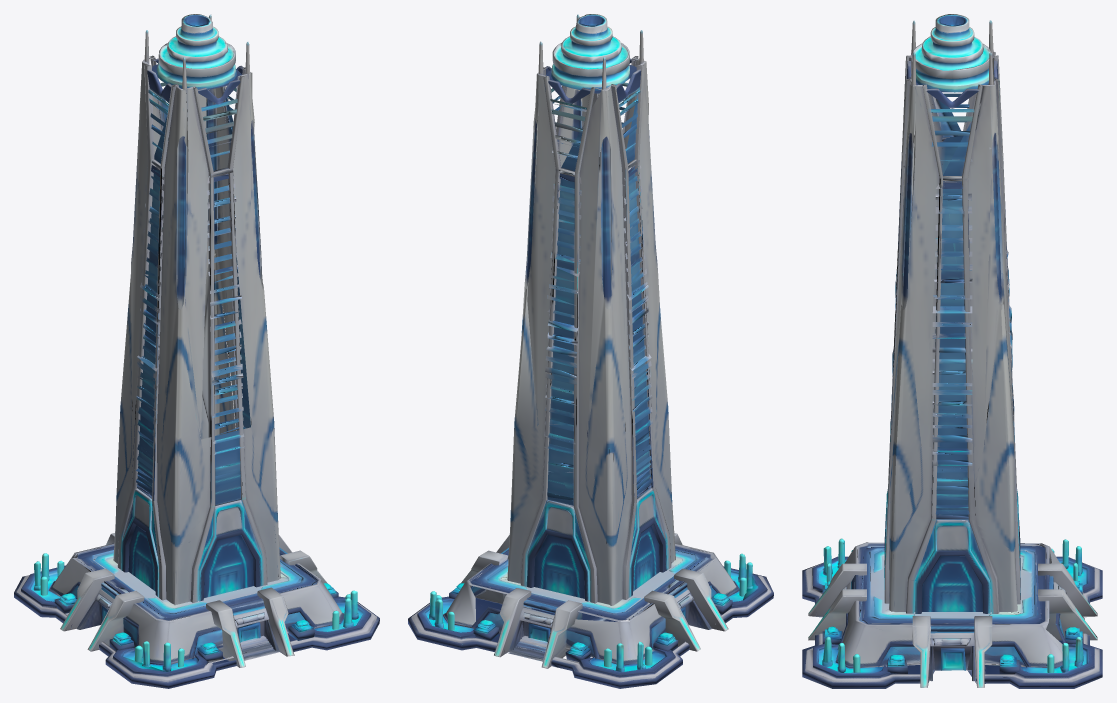
The model's file is corp_tower.glb.
3 views of the same model, side by side, from view 1: azimuth 30°, elevation 25°; view 2: azimuth 150°, elevation 25°; view 3: azimuth 270°, elevation 25° (orthographic). The views are drawn at different scales.
Parts seen in each view (by area): view 1: geometry_0; view 2: geometry_0; view 3: geometry_0.
Part boxes in pixels (<box>): geometry_0: <box>14,14,379,688</box>; geometry_0: <box>408,14,773,688</box>; geometry_0: <box>802,14,1102,688</box>.
Bounding box in the file's own units: 0.4185 × 0.9512 × 0.4272.
1 material, 1 textured.
